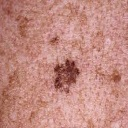Melanoma: (52, 57, 82, 94)
